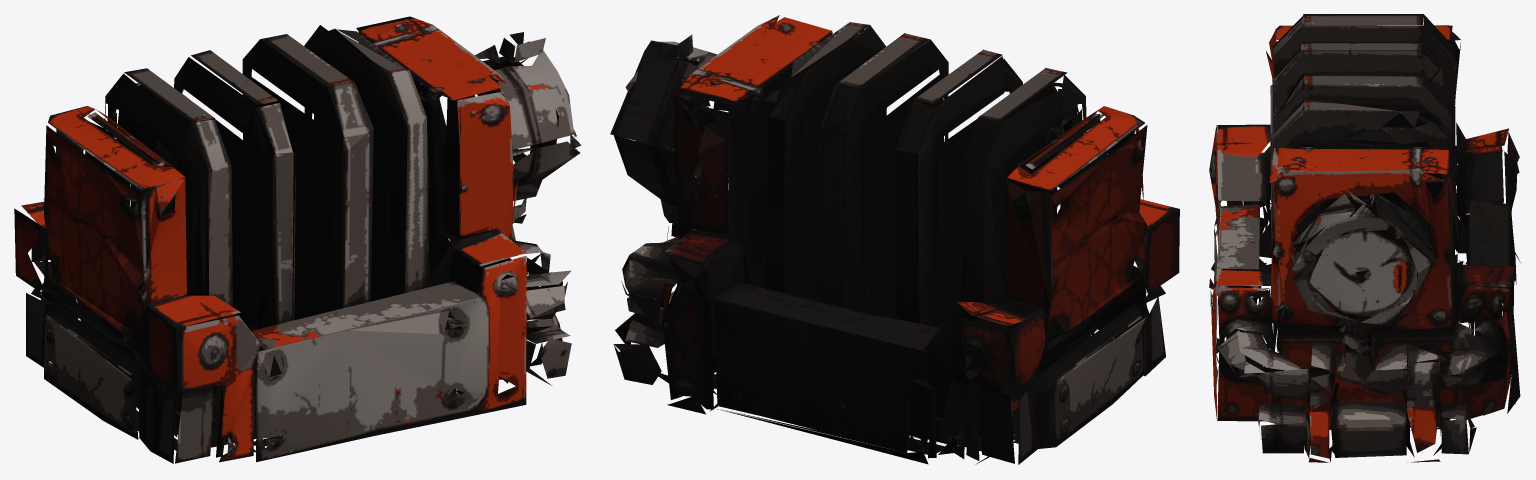
Rendered from mo_governor.glb.
The picture shows the model from 3 angles, left to right: view 1: azimuth 30°, elevation 25°; view 2: azimuth 150°, elevation 25°; view 3: azimuth 270°, elevation 25°; orthographic projection. The views are drawn at different scales.
Parts seen in each view (by area): view 1: mo_governor; view 2: mo_governor; view 3: mo_governor.
Part boxes in pixels (x1,y1,x2,y2): mo_governor: (14, 16, 581, 463); mo_governor: (610, 15, 1179, 464); mo_governor: (1209, 14, 1520, 462).
Size of the model in its own units: 0.1771 by 0.1252 by 0.1183.
1 material, 1 textured.
